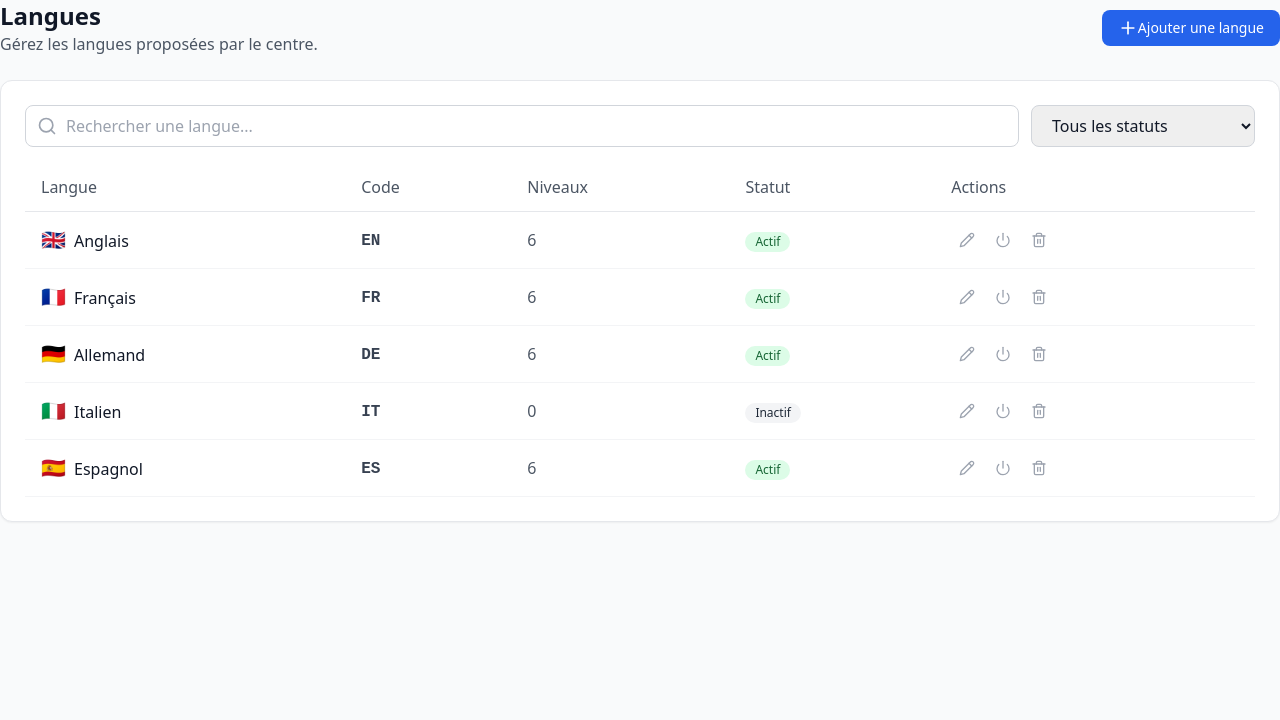
it: Languages page (démo locale) › blocks deleting a language that has levels
Click the button named "Supprimer Anglais": (1039, 240) [1023, 224, 1055, 256]
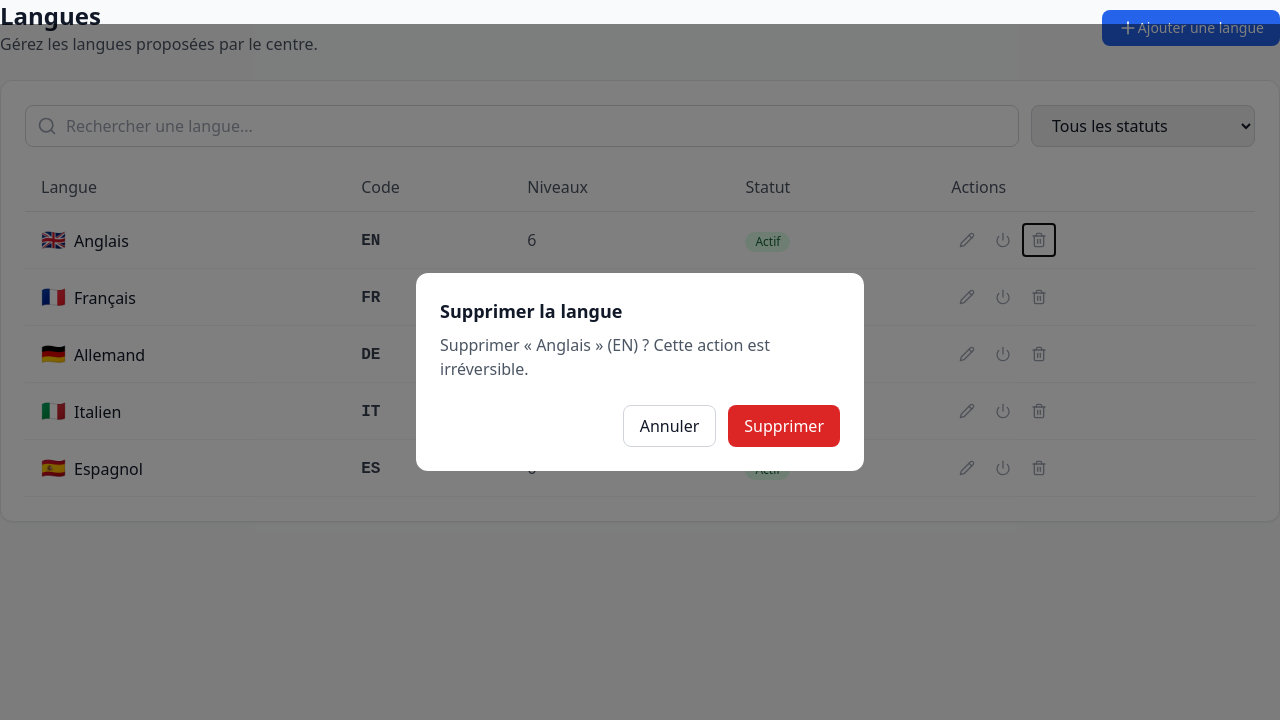
Click the button "Supprimer": (784, 426) [728, 405, 840, 447]
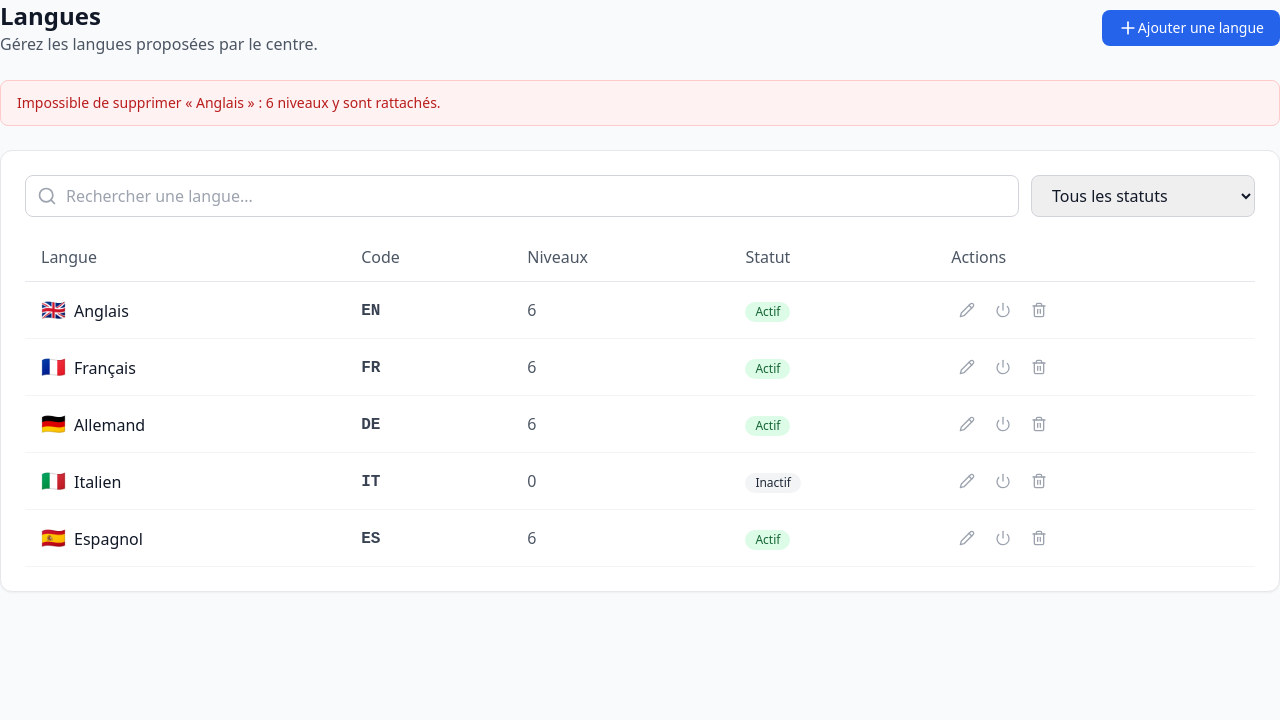
Expected: the text "Anglais" is shown, [74, 300, 129, 322]
Expected: the text "Impossible de supprimer" is shown, [17, 93, 441, 112]
